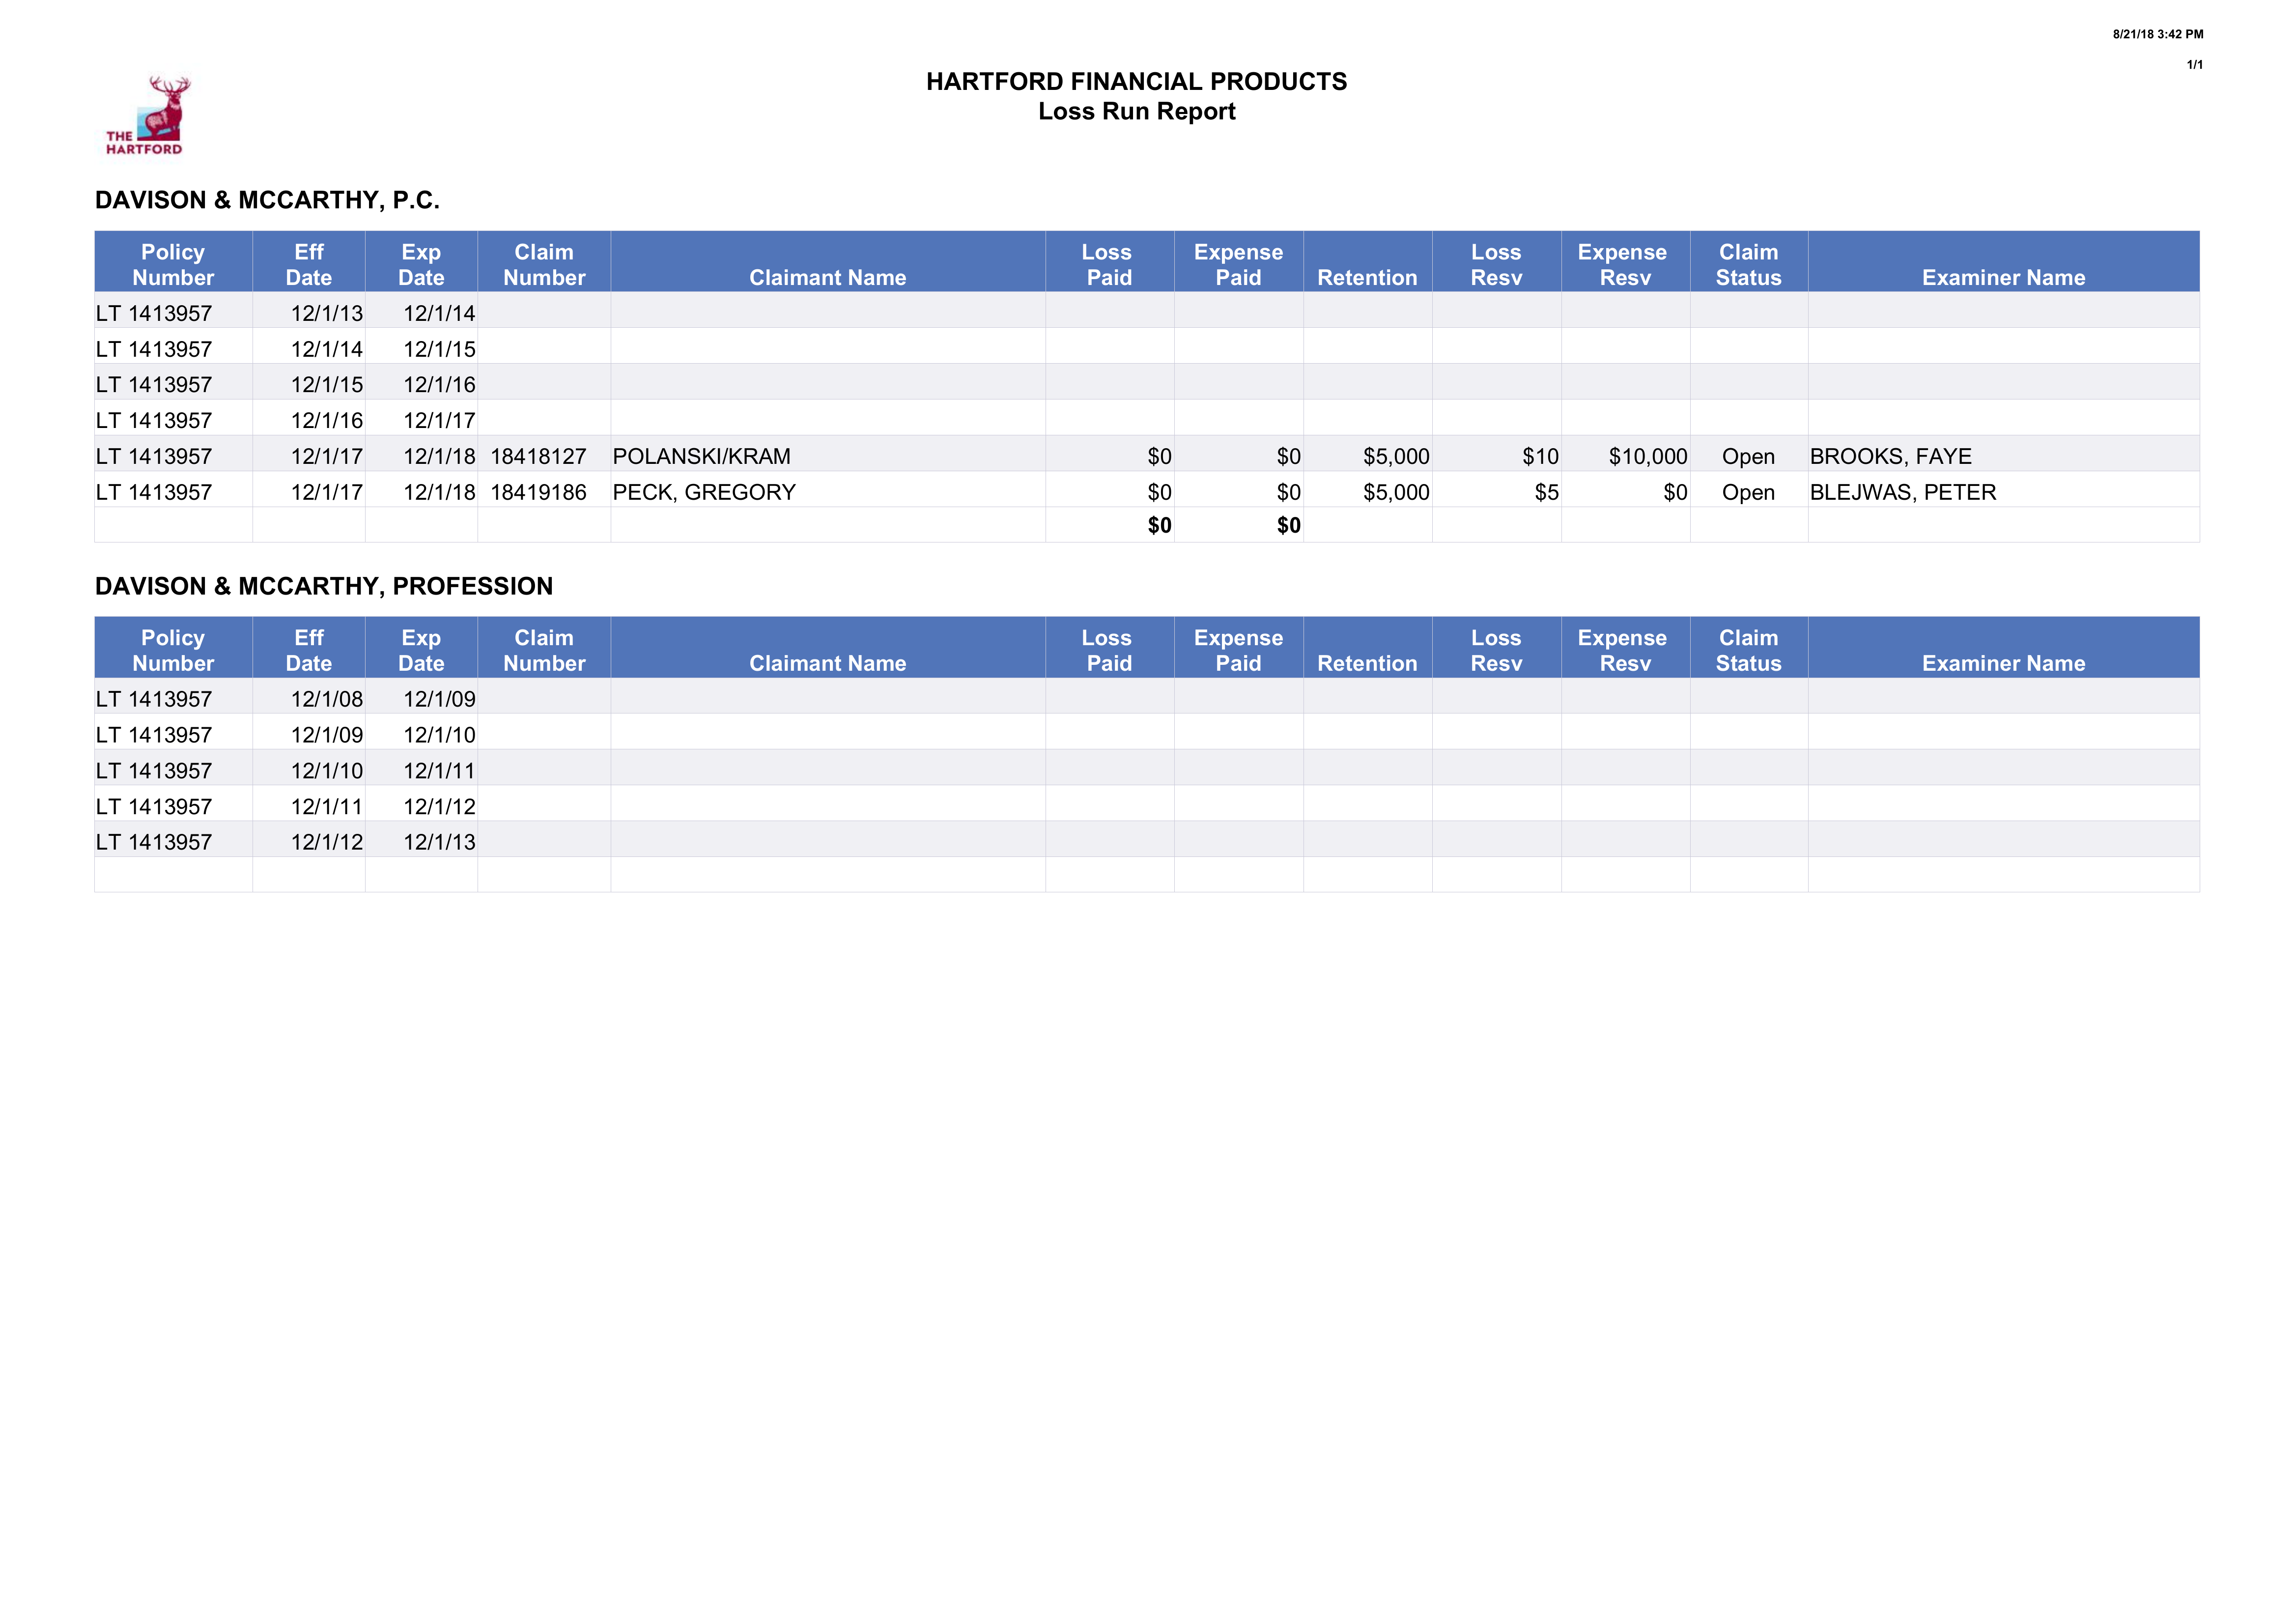No-loss: (74, 608, 2233, 919)
others: (84, 221, 2226, 554)
